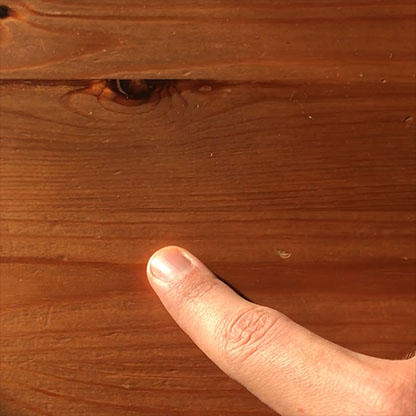fingertip: (140, 236, 206, 294)
